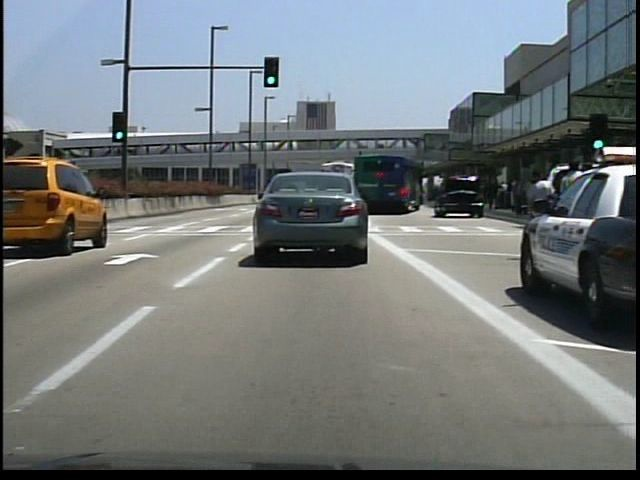person: (517, 163, 557, 263), (560, 153, 593, 269), (32, 167, 49, 226), (52, 171, 72, 217)
